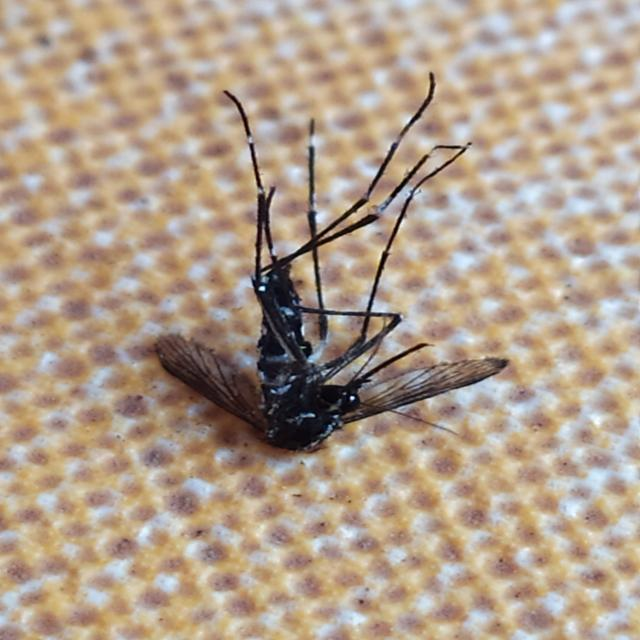albopictus: (126, 43, 519, 455)
